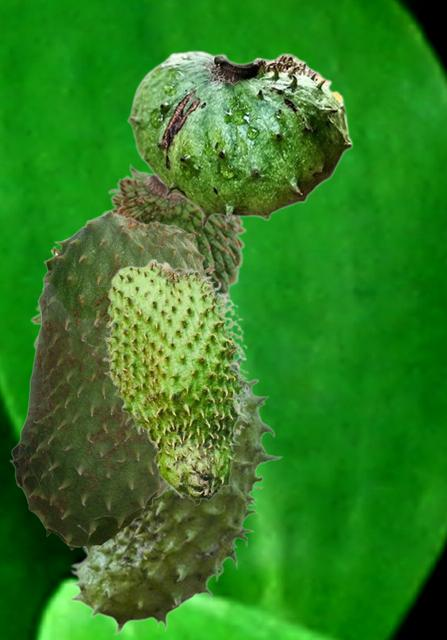guyabano: (9, 209, 214, 552), (67, 353, 282, 635), (29, 163, 246, 349), (127, 50, 352, 228), (102, 258, 250, 505)
